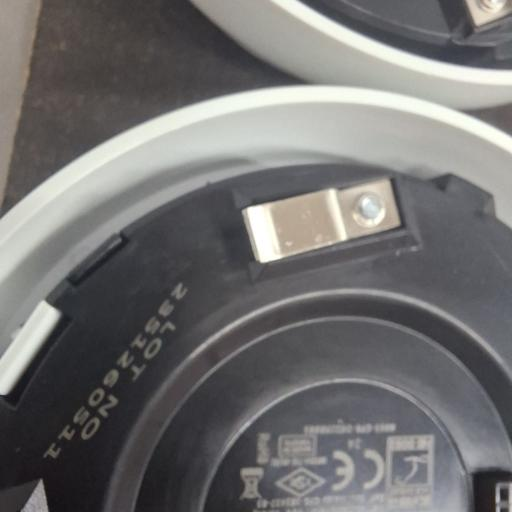yaysiz: (239, 177, 402, 265)
